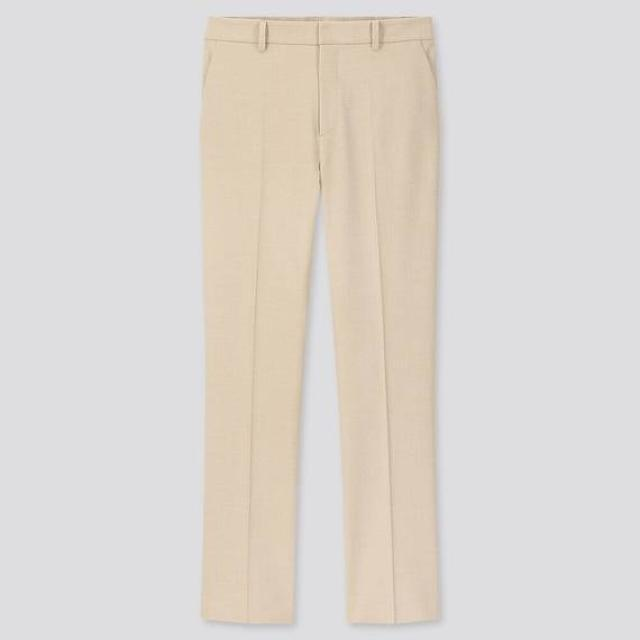long-pants: (199, 17, 446, 633)
